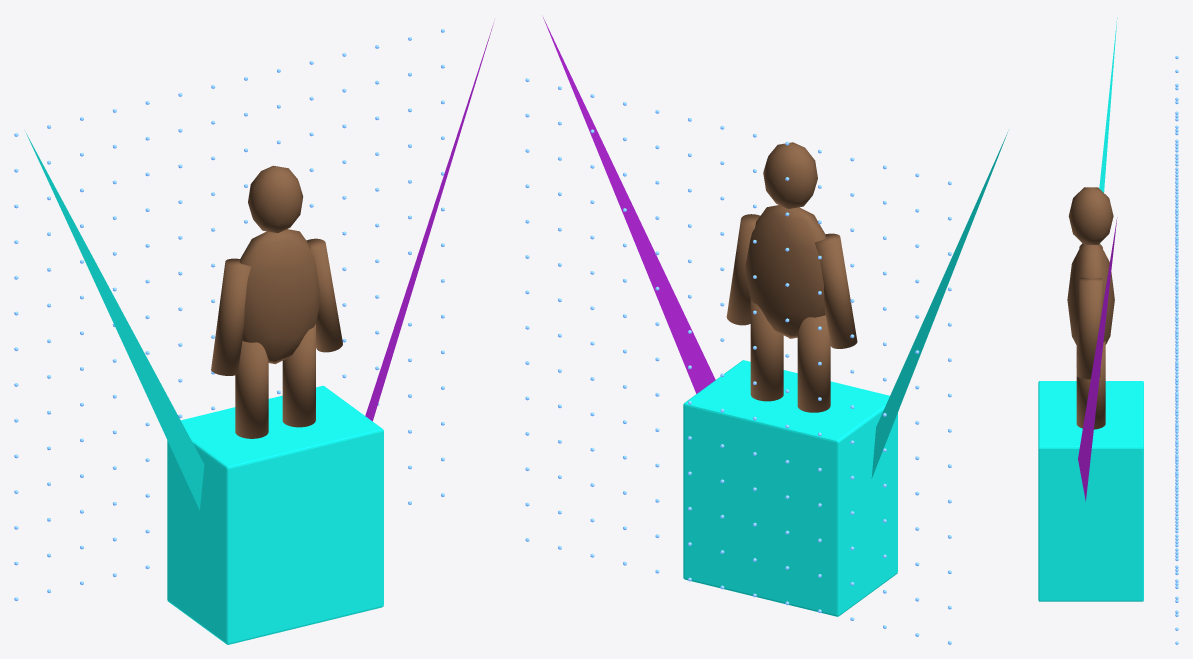
The picture shows the model from 3 angles, left to right: view 1: azimuth 30°, elevation 25°; view 2: azimuth 150°, elevation 25°; view 3: azimuth 270°, elevation 25°; orthographic projection. The views are drawn at different scales.
Parts seen in each view (by area): view 1: TI066 / turquoise pedestal, TI066 / figure torso, TI066 / angular translucent light sheet, TI066 / figure arm, TI066 / figure leg, TI066 / figure head, TI066 / figure leg.001, TI066 / angular translucent light sheet.001, TI066 / figure arm.001; view 2: TI066 / turquoise pedestal, TI066 / figure torso, TI066 / angular translucent light sheet.001, TI066 / figure leg, TI066 / angular translucent light sheet, TI066 / figure arm, TI066 / figure head, TI066 / figure leg.001, TI066 / figure arm.001; view 3: TI066 / turquoise pedestal, TI066 / figure torso, TI066 / figure arm.001, TI066 / figure head, TI066 / angular translucent light sheet.001, TI066 / figure leg.001, TI066 / angular translucent light sheet.
Boxes of the visible parts, x1,y1,x2,y2 form: TI066 / turquoise pedestal: [167, 385, 383, 644]; TI066 / figure torso: [240, 229, 319, 364]; TI066 / angular translucent light sheet: [25, 131, 204, 510]; TI066 / figure arm: [211, 258, 251, 375]; TI066 / figure leg: [235, 341, 268, 438]; TI066 / figure head: [248, 165, 303, 232]; TI066 / figure leg.001: [282, 324, 315, 427]; TI066 / angular translucent light sheet.001: [365, 23, 493, 421]; TI066 / figure arm.001: [306, 238, 342, 352]; TI066 / turquoise pedestal: [683, 360, 897, 616]; TI066 / figure torso: [745, 205, 825, 338]; TI066 / angular translucent light sheet.001: [543, 17, 715, 393]; TI066 / figure leg: [797, 315, 830, 412]; TI066 / angular translucent light sheet: [871, 132, 1007, 478]; TI066 / figure arm: [815, 233, 857, 348]; TI066 / figure head: [763, 142, 817, 208]; TI066 / figure leg.001: [750, 299, 783, 401]; TI066 / figure arm.001: [726, 214, 760, 325]; TI066 / turquoise pedestal: [1038, 381, 1143, 601]; TI066 / figure torso: [1067, 243, 1114, 344]; TI066 / figure arm.001: [1076, 277, 1102, 379]; TI066 / figure head: [1068, 187, 1113, 244]; TI066 / angular translucent light sheet.001: [1078, 217, 1117, 501]; TI066 / figure leg.001: [1076, 341, 1105, 429]; TI066 / angular translucent light sheet: [1099, 18, 1117, 243].
Size of the model in its own units: 3.6 by 3.8 by 1.06.
